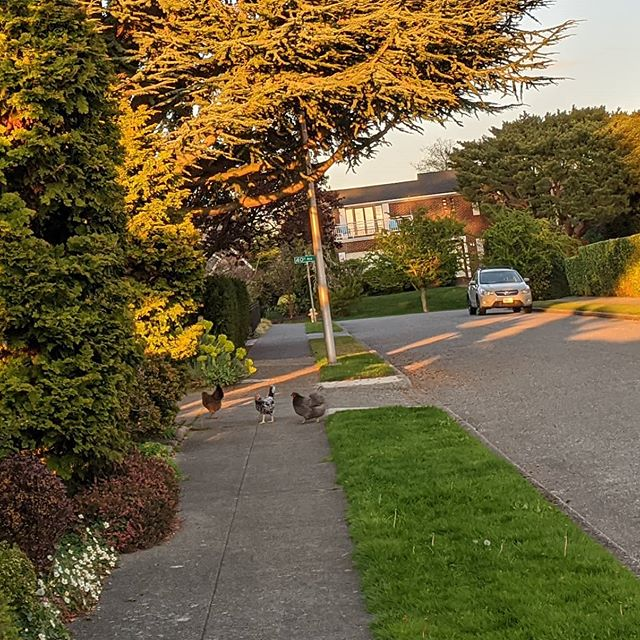animal: (286, 383, 330, 422), (243, 386, 283, 423), (196, 383, 229, 419)
building: (319, 165, 474, 294)
car: (457, 262, 538, 314)
grass: (344, 412, 640, 640)
street: (374, 316, 640, 574)
tree: (1, 20, 179, 640), (180, 1, 502, 218), (456, 99, 640, 261)
